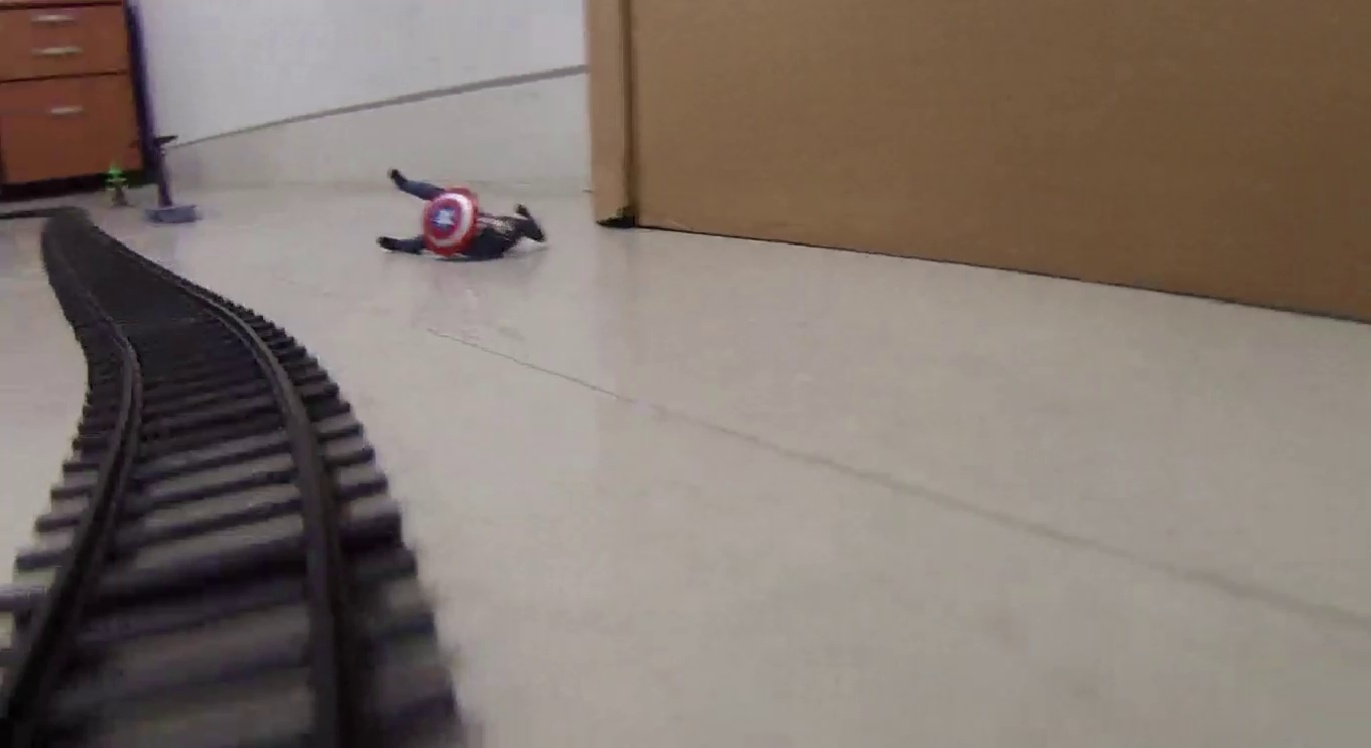people: (377, 170, 547, 264)
